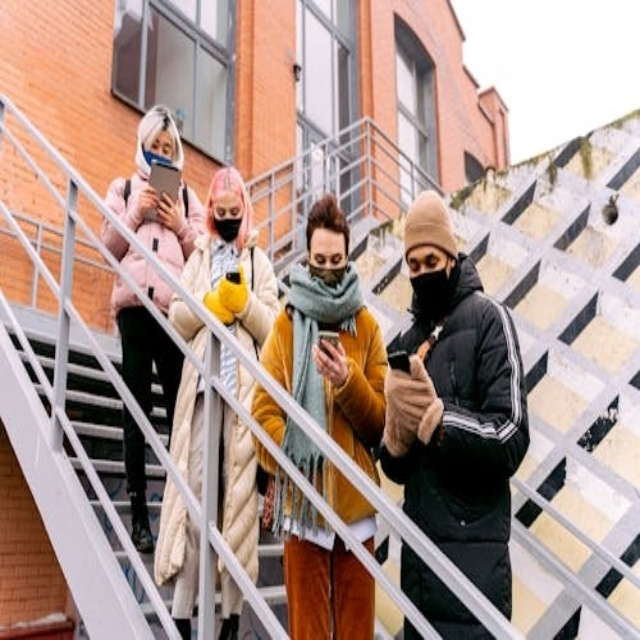Guantes: (379, 357, 442, 448), (202, 269, 250, 323)
Mascara: (409, 262, 453, 313), (309, 255, 348, 287), (213, 213, 242, 242)
Sin_gafas: (408, 250, 445, 275), (146, 131, 175, 160), (311, 246, 347, 269), (215, 204, 241, 221)
Sin_guantes: (312, 340, 350, 385), (157, 185, 186, 231), (134, 183, 165, 223)
